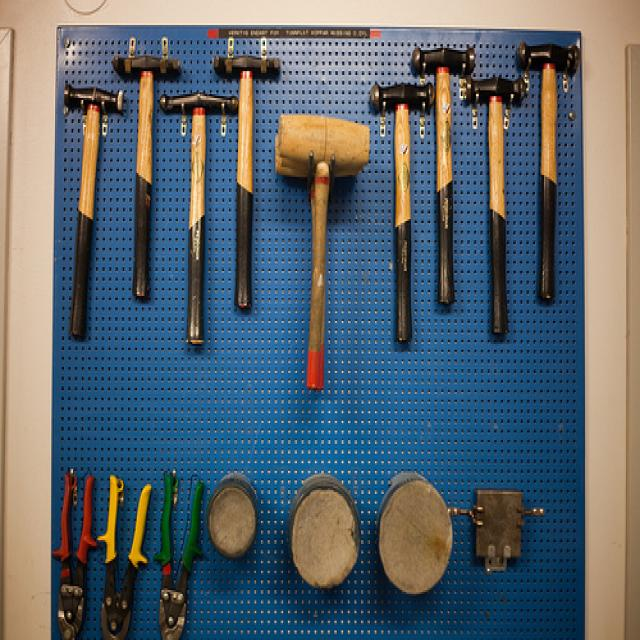hammer: (266, 101, 370, 347), (367, 64, 435, 282)
